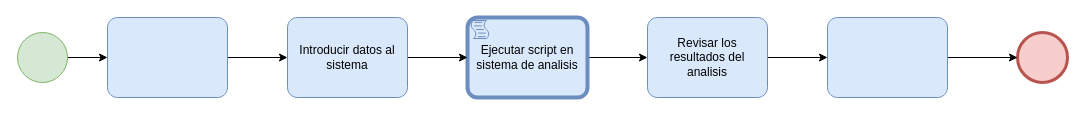
Image size: 1085x115. Some labels were removed from this diagram. Each missing label, with the centre of its shape:
Devolver respuesta por correo: the point at 887,57
Recibir recaudos de crédito: the point at 167,57
